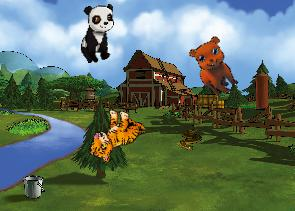bear: (182, 31, 250, 101)
panda: (80, 3, 115, 64)
tiger: (85, 103, 148, 170)
